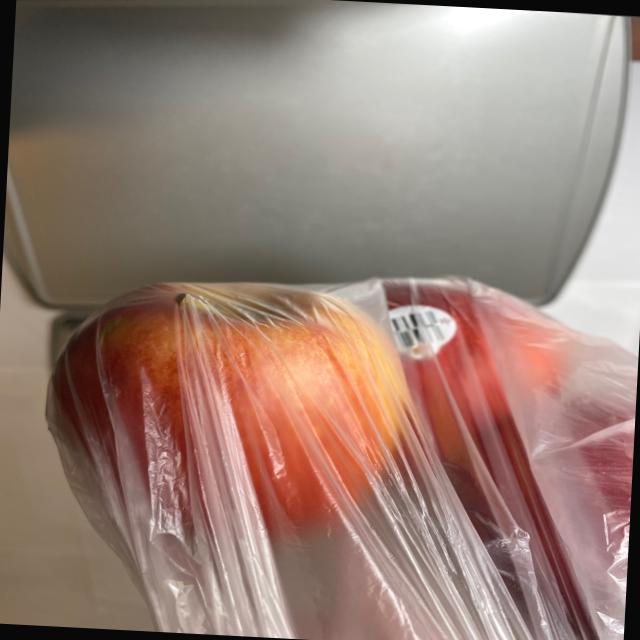apple: (35, 257, 640, 608)
